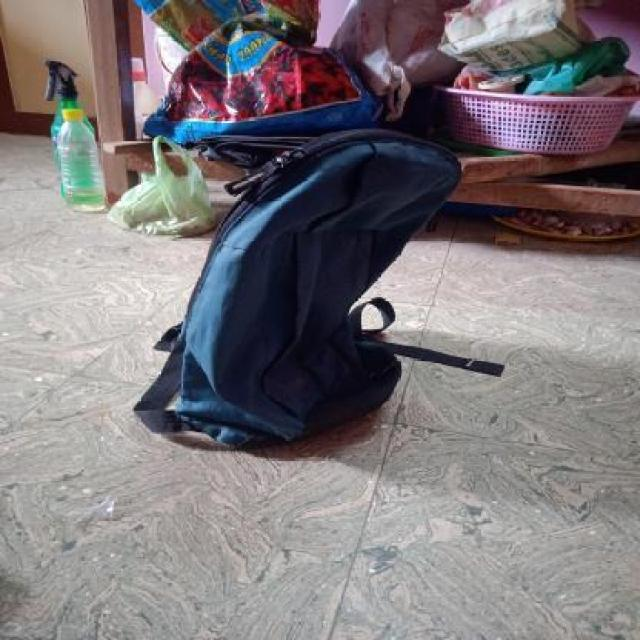backpack: (129, 120, 466, 455)
